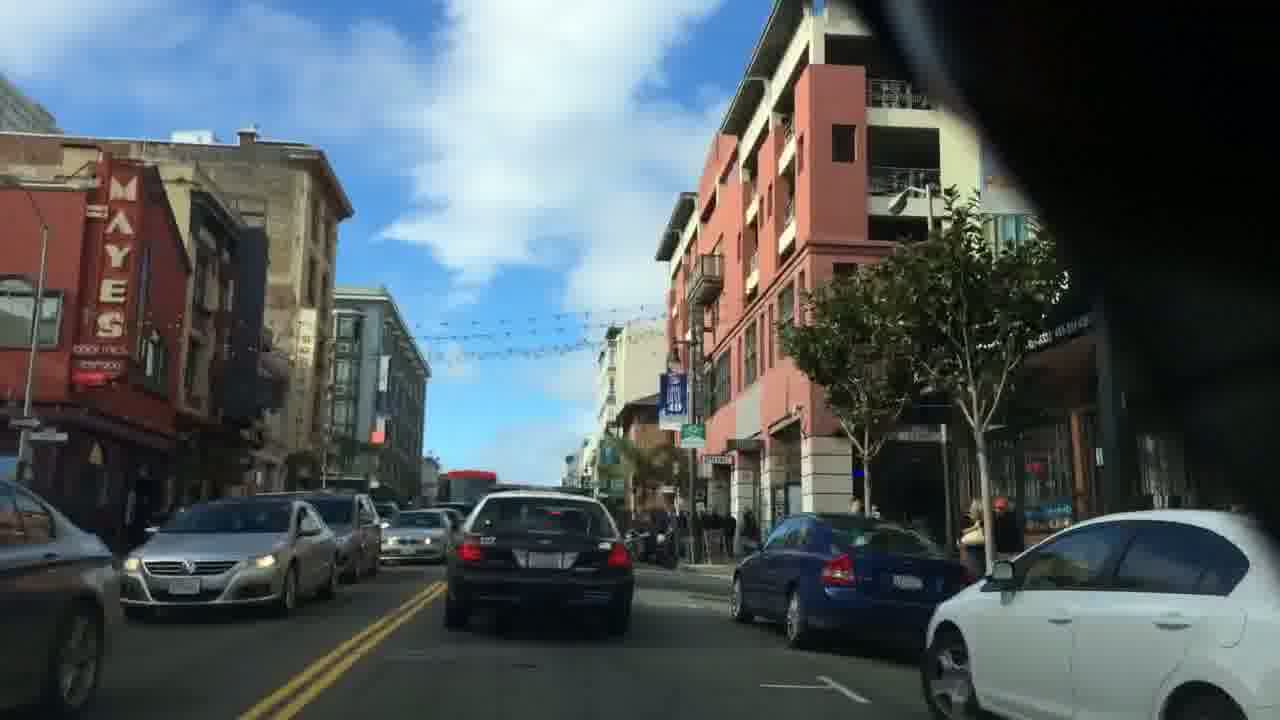car: (917, 506, 1280, 720), (728, 511, 970, 647), (0, 472, 120, 720), (441, 489, 634, 637), (118, 495, 338, 621), (291, 491, 380, 582), (377, 505, 451, 564)
pedestrian: (958, 499, 985, 586), (990, 495, 1024, 562), (738, 504, 757, 552)
